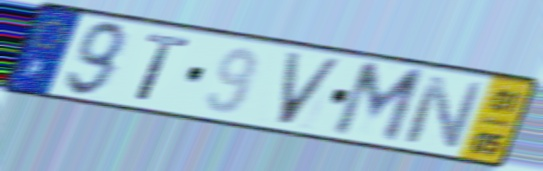9: (63, 18, 133, 100), (204, 45, 265, 117)
M: (326, 59, 430, 147)
N: (399, 72, 487, 152)
T: (131, 31, 195, 104)
V: (275, 49, 347, 128)
